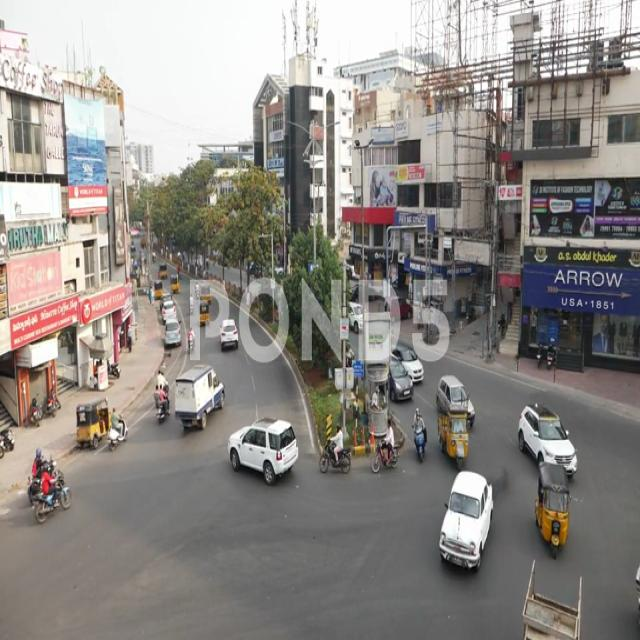cab: (440, 471, 494, 582)
car: (224, 418, 300, 489), (515, 402, 579, 480), (396, 337, 429, 384), (389, 360, 417, 405), (217, 320, 241, 354)
motorbike: (32, 468, 72, 523), (320, 426, 352, 476), (411, 407, 428, 464), (108, 408, 130, 452)
rikshaw: (537, 466, 568, 561)
truck: (438, 408, 472, 466)
